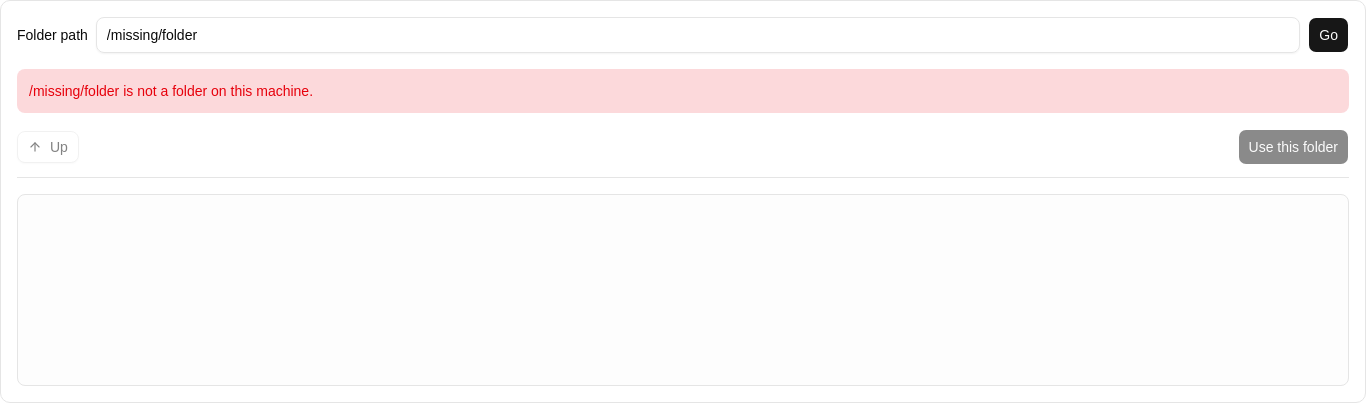
Test: FolderBrowserInput › shows a folder_not_found message and stays usable
Check: the text "/missing/folder is not a folder on this machine." is shown, box [17, 69, 1349, 113]
Replace the text in the field labelled "Folder path" with "/recovered" at {"x": 698, "y": 35}, box [96, 17, 1300, 53]
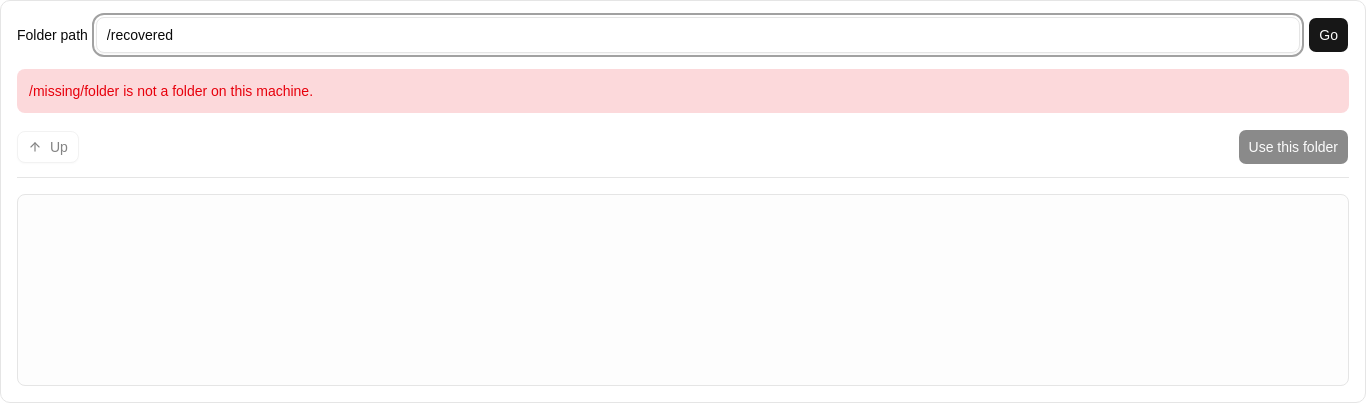
Click the button "Go".
click(1329, 35)  # box [1308, 17, 1349, 53]
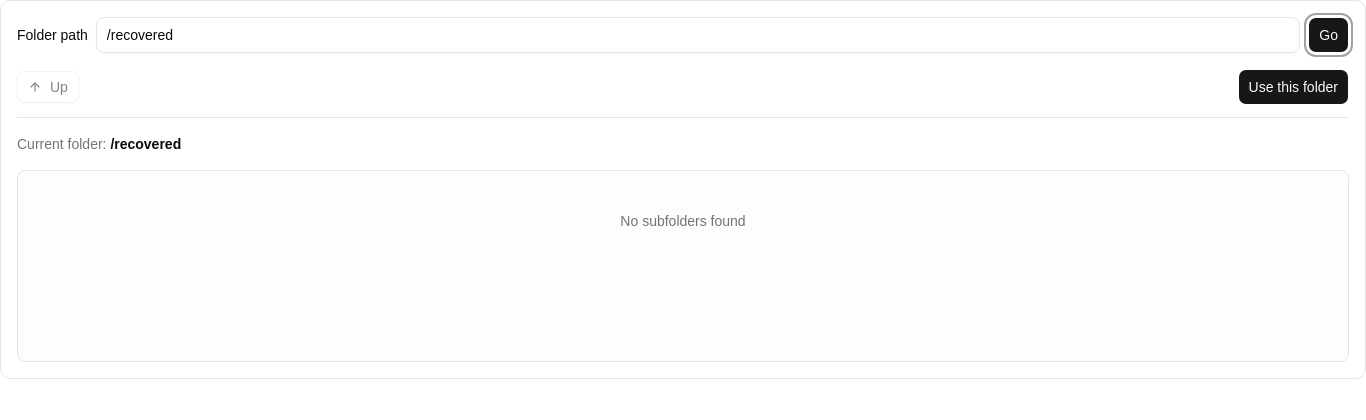
Check: the text "/recovered" is shown, box [110, 136, 181, 152]
